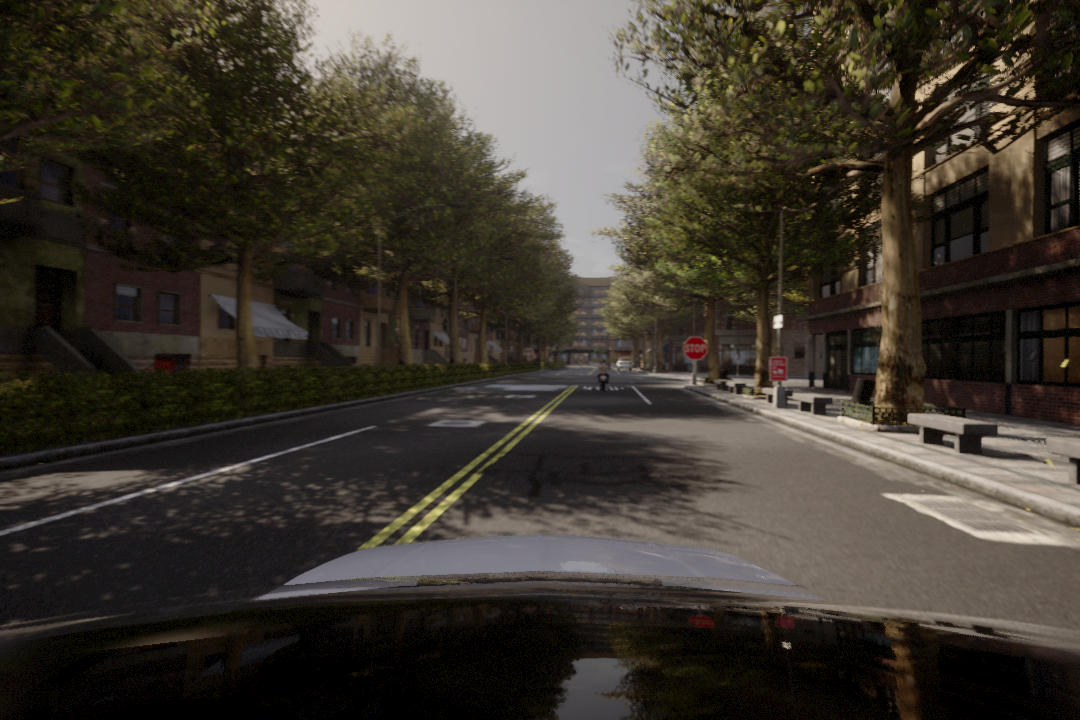TrafficSign_stop: (681, 334, 711, 363)
